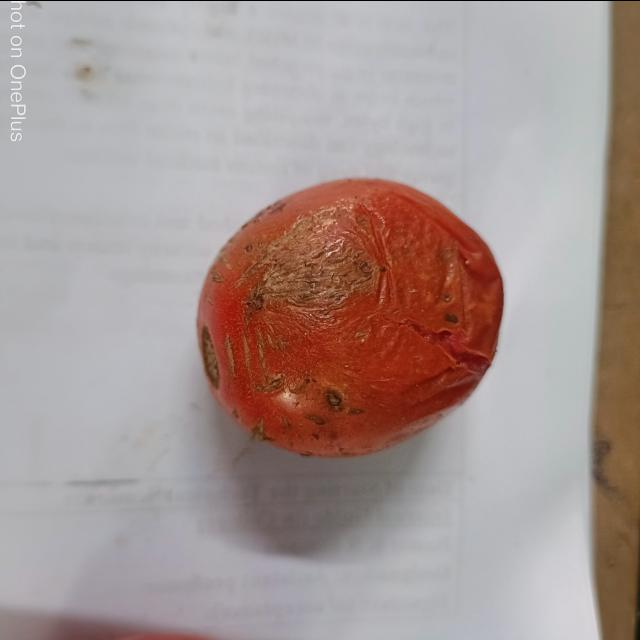Botrytis: (256, 214, 380, 308), (410, 314, 494, 374), (322, 388, 348, 410)
